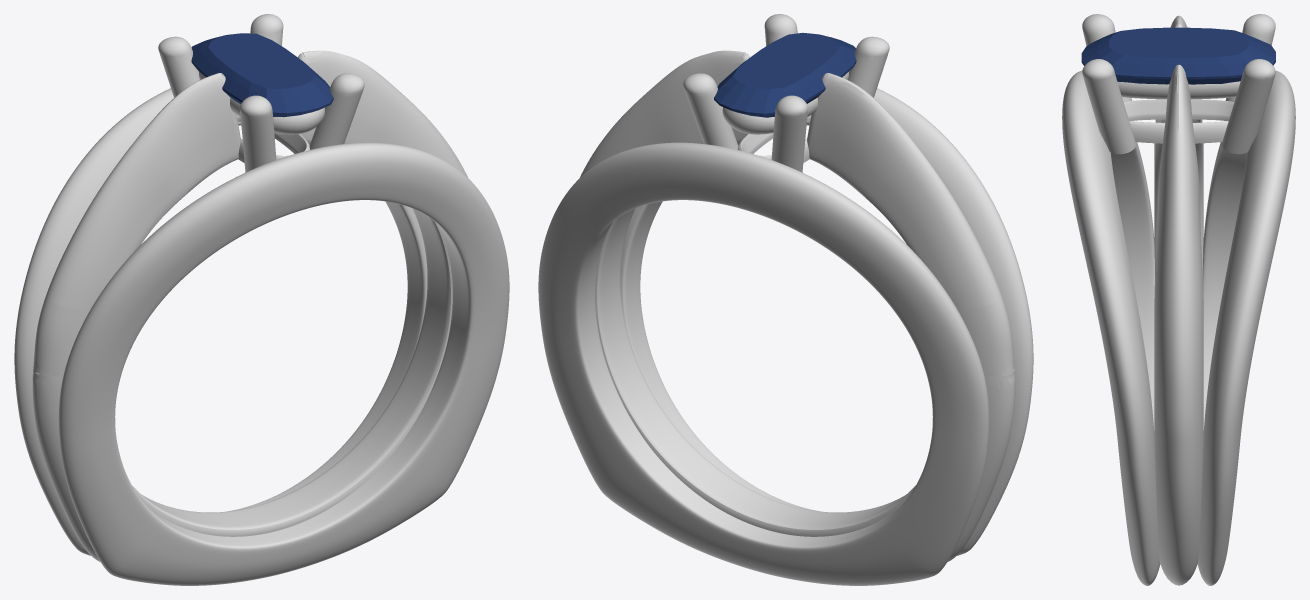
File: EllaPTring_blender.glb
The picture shows the model from 3 angles, left to right: view 1: azimuth 30°, elevation 25°; view 2: azimuth 150°, elevation 25°; view 3: azimuth 270°, elevation 25°; orthographic projection.
Visible parts, largest first — view 1: Ella PT for 3d model, Ella tanzanite for 3d model; view 2: Ella PT for 3d model, Ella tanzanite for 3d model; view 3: Ella PT for 3d model, Ella tanzanite for 3d model.
Boxes of the visible parts, x1,y1,x2,y2 form: Ella PT for 3d model: [14, 14, 509, 585]; Ella tanzanite for 3d model: [191, 33, 333, 117]; Ella PT for 3d model: [538, 14, 1033, 585]; Ella tanzanite for 3d model: [714, 32, 856, 117]; Ella PT for 3d model: [1062, 14, 1295, 585]; Ella tanzanite for 3d model: [1081, 27, 1275, 84].
Bounding box in the file's own units: 21.3 × 22.68 × 9.48.
